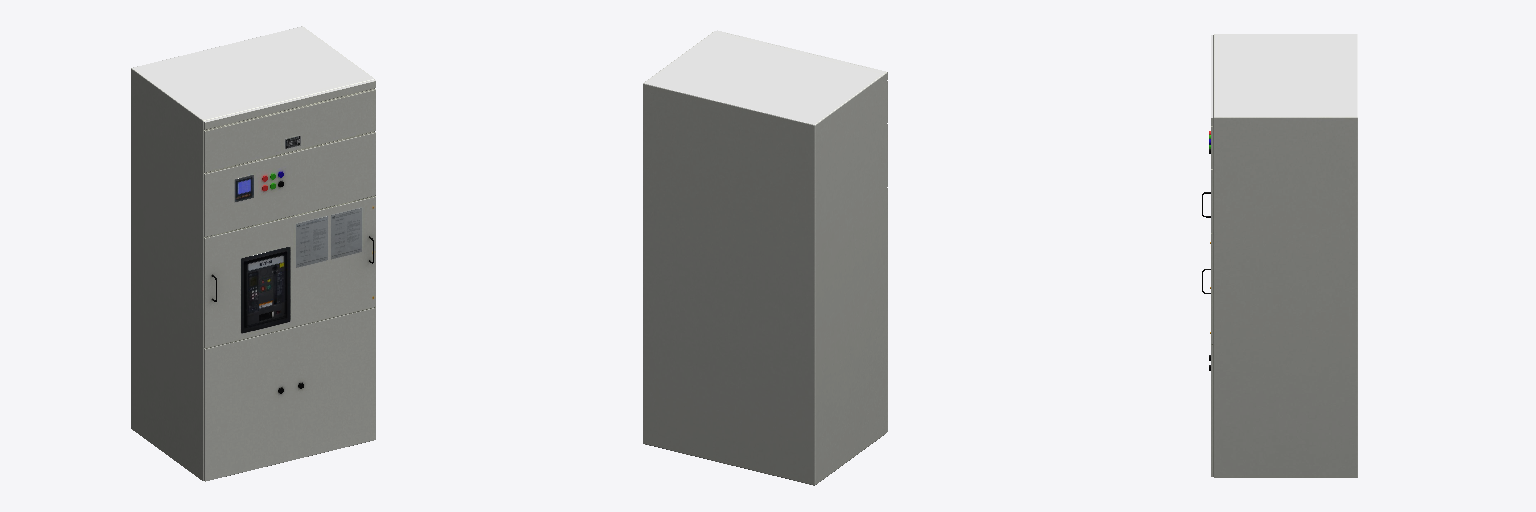
3 renders of one model, left to right at view 1: azimuth 30°, elevation 25°; view 2: azimuth 150°, elevation 25°; view 3: azimuth 270°, elevation 25°, orthographic.
Visible parts, largest first — view 1: ChamferBox18; view 2: ChamferBox18; view 3: ChamferBox18.
Part boxes in pixels (x1,y1,x2,y2): ChamferBox18: (131,26,375,481); ChamferBox18: (643,30,887,485); ChamferBox18: (1202,34,1357,477).
Size of the model in its own units: 110 by 220 by 86.54.
Materials: 1 (1 with a texture image).